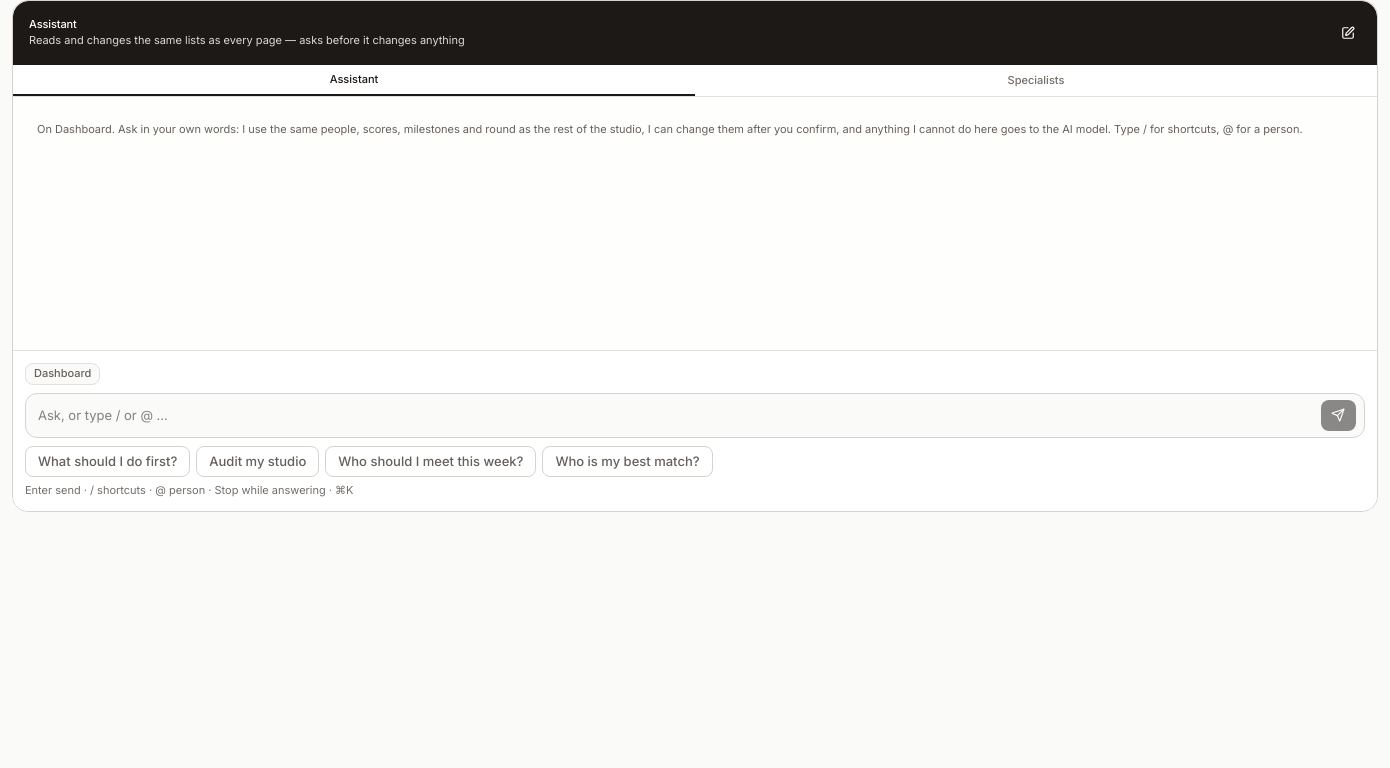
Test case: studio chat proposals › writes nothing on Cancel
Type "set my headline to Building climate fintech" into the field named "Message the assistant".
click(671, 415); type("set my headline to Building climate fintech")  # box [30,398,1312,433]
Then press Enter
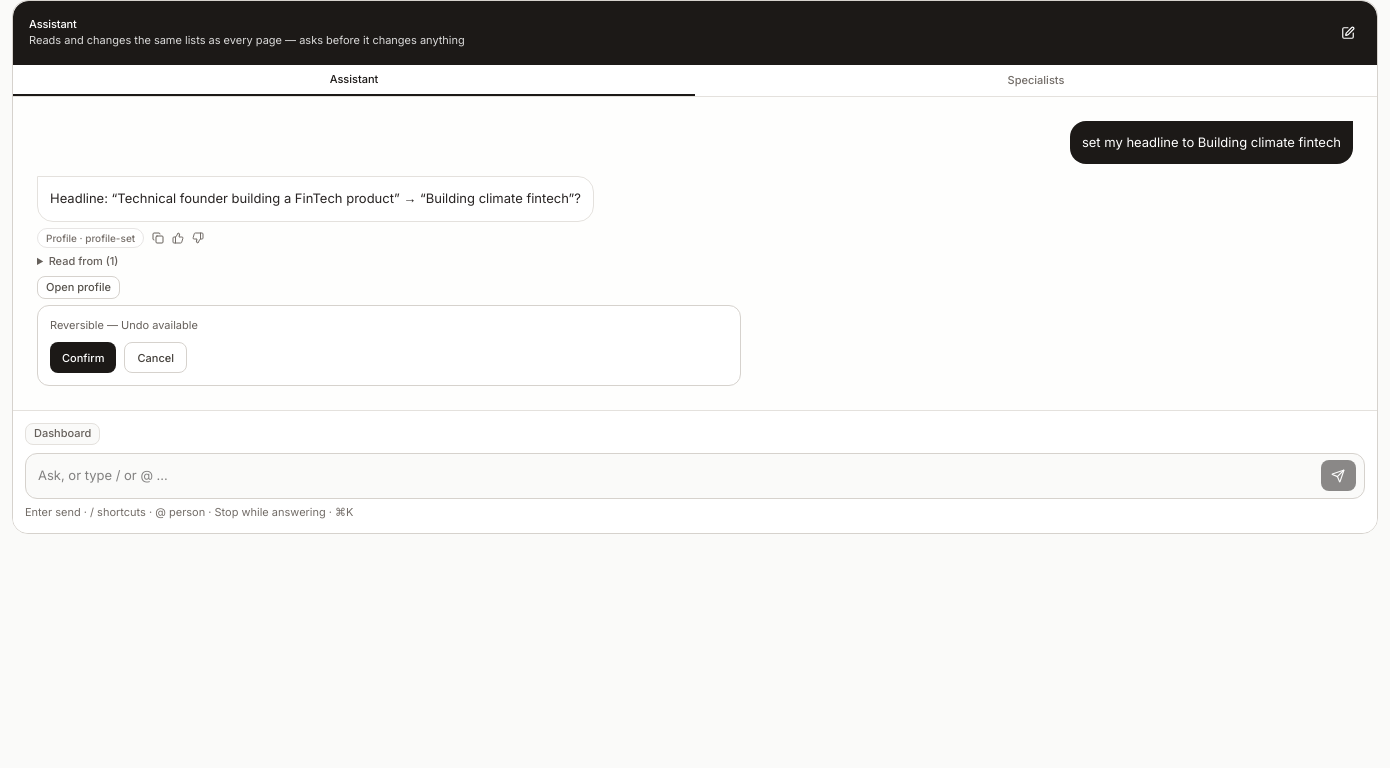
Click the button "Cancel".
click(156, 358)  # box [124,342,187,373]
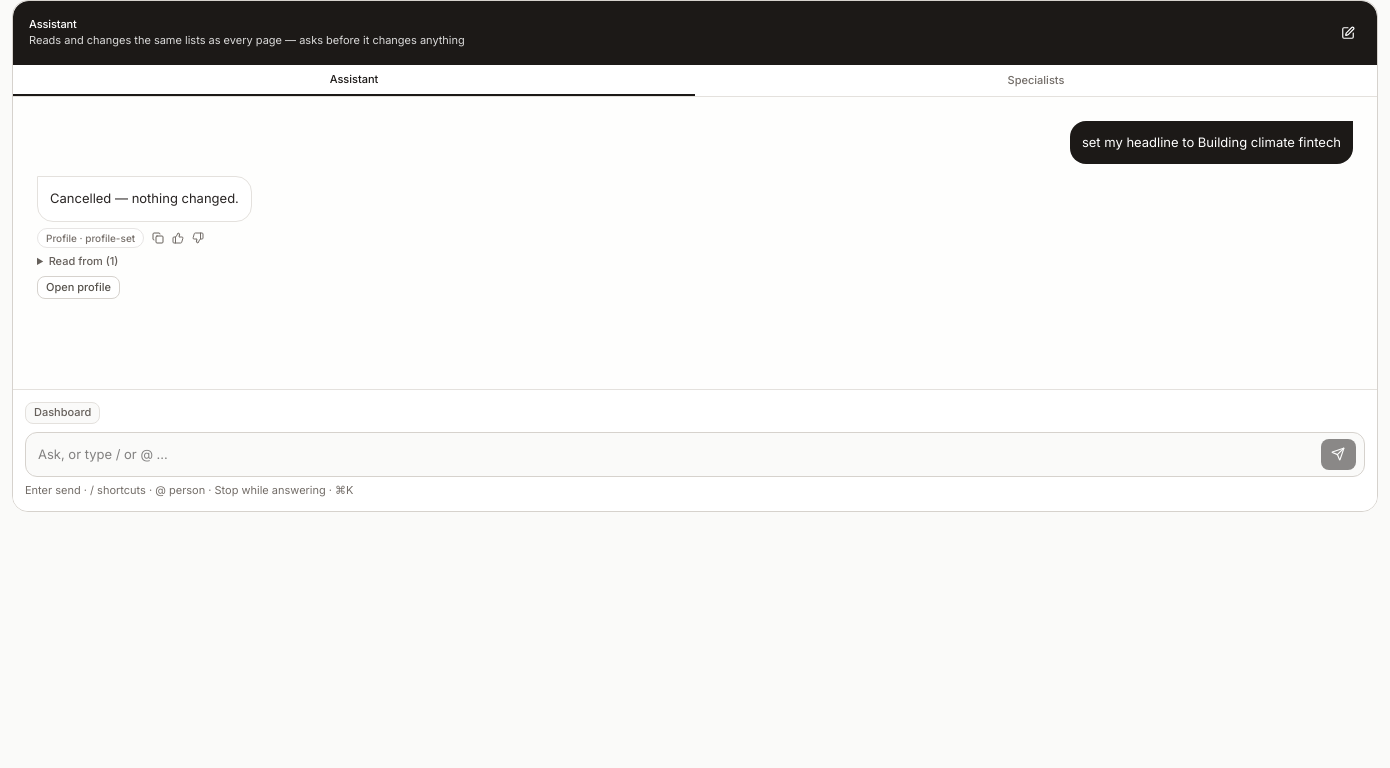
Result: the text "Cancelled — nothing changed." is shown at [37,176,252,222]
